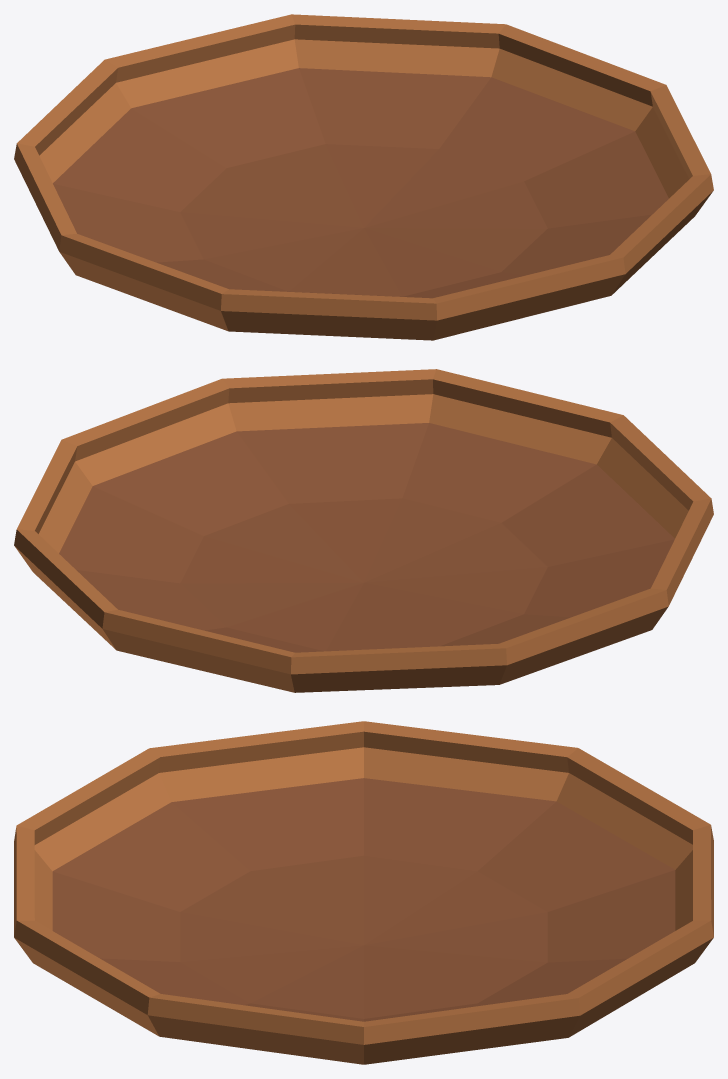
File: SM_Prop_Copper_Plate_Large_01.glb
3 views of the same model, one above another, from view 1: azimuth 30°, elevation 25°; view 2: azimuth 150°, elevation 25°; view 3: azimuth 270°, elevation 25° (orthographic). The views are drawn at different scales.
Visible parts, largest first — view 1: SM_Prop_Copper_Plate_Large_01; view 2: SM_Prop_Copper_Plate_Large_01; view 3: SM_Prop_Copper_Plate_Large_01.
Part boxes in pixels (x1,y1,x2,y2): SM_Prop_Copper_Plate_Large_01: (14,14,713,340); SM_Prop_Copper_Plate_Large_01: (14,369,713,692); SM_Prop_Copper_Plate_Large_01: (14,721,713,1064).
Size of the model in its own units: 1.61 by 0.2097 by 1.53.
1 material, 1 textured.
